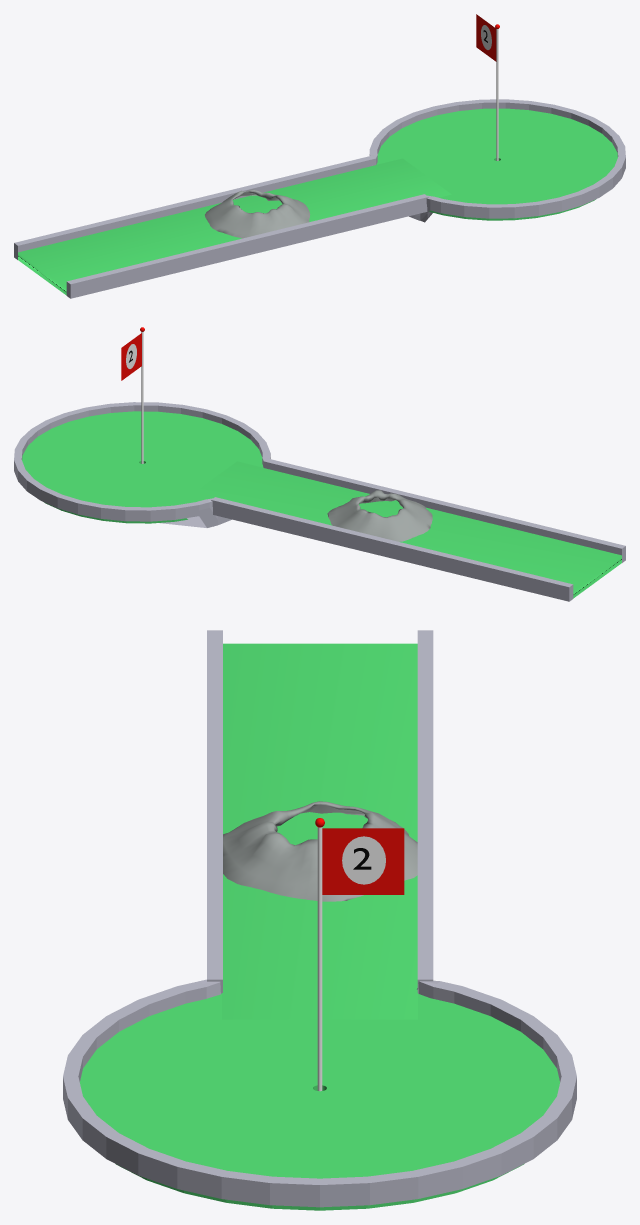
File: Bane2MedFlag.fbx
3 views of the same model, one above another, from view 1: azimuth 30°, elevation 25°; view 2: azimuth 150°, elevation 25°; view 3: azimuth 270°, elevation 25° (orthographic). The views are drawn at different scales.
Visible parts, largest first — view 1: Cylinder, bane, Cube, Cylinder.001, Cube.002, krater, Cube.001; view 2: Cylinder, bane, Cube.002, Cylinder.001, Cube, krater, Cube.001; view 3: Cylinder, bane, Cylinder.001, krater, Cube.002, Cube, Cube.001, Cylinder.003, Circle.002.
Part boxes in pixels (left/top/right/bottom): Cylinder: left=376, top=108, right=617, bottom=220; bane: left=18, top=158, right=451, bottom=295; Cube: left=66, top=194, right=428, bottom=298; Cylinder.001: left=369, top=99, right=625, bottom=222; Cube.002: left=14, top=155, right=375, bottom=259; krater: left=205, top=189, right=310, bottom=238; Cube.001: left=476, top=14, right=496, bottom=61; Cylinder: left=22, top=411, right=263, bottom=523; bane: left=188, top=461, right=621, bottom=598; Cube.002: left=211, top=497, right=573, bottom=601; Cylinder.001: left=14, top=402, right=270, bottom=527; Cube: left=264, top=458, right=625, bottom=562; krater: left=327, top=490, right=432, bottom=541; Cube.001: left=121, top=333, right=141, bottom=380; Cylinder: left=80, top=993, right=559, bottom=1210; bane: left=222, top=643, right=417, bottom=1019; Cylinder.001: left=63, top=979, right=576, bottom=1207; krater: left=223, top=801, right=417, bottom=901; Cube.002: left=417, top=630, right=433, bottom=993; Cube: left=207, top=630, right=222, bottom=993; Cube.001: left=322, top=828, right=404, bottom=894; Cylinder.003: left=317, top=827, right=322, bottom=1091; Circle.002: left=342, top=836, right=385, bottom=884.
Bounding box in the file's own units: 535 × 143 × 210.
